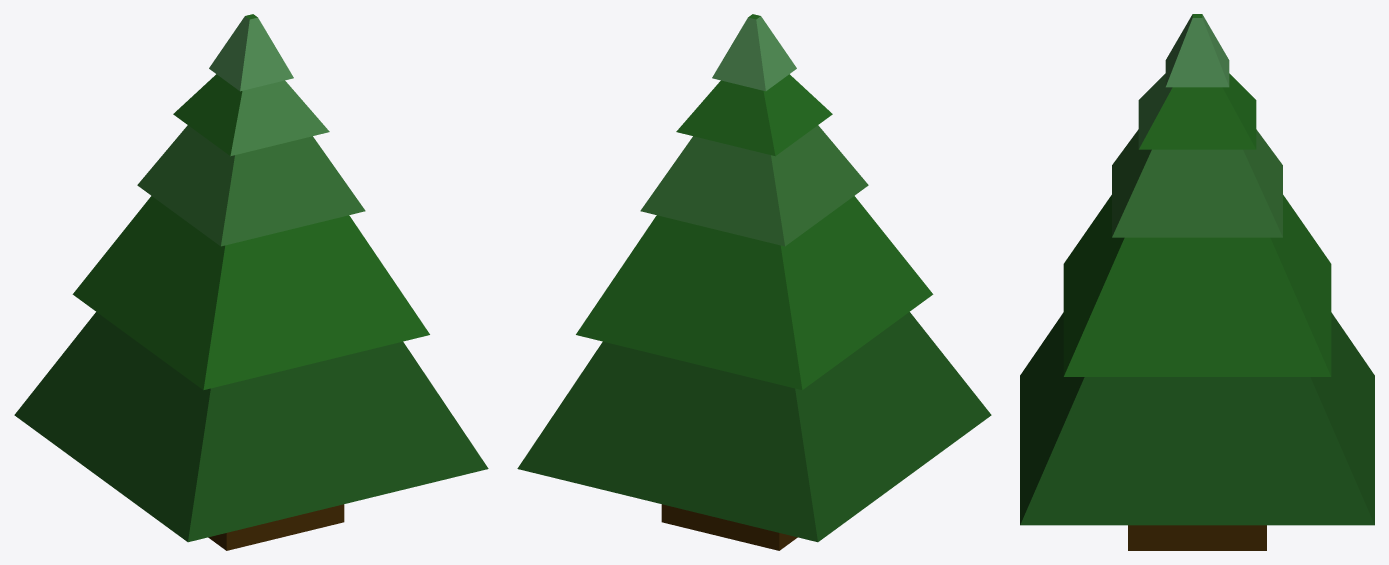
File: Trees_2.fbx
The picture shows the model from 3 angles, left to right: view 1: azimuth 30°, elevation 25°; view 2: azimuth 150°, elevation 25°; view 3: azimuth 270°, elevation 25°; orthographic projection. The views are drawn at different scales.
Visible parts, largest first — view 1: Tree 2; view 2: Tree 2; view 3: Tree 2.
Part boxes in pixels (x1,y1,x2,y2): Tree 2: [14, 14, 488, 550]; Tree 2: [517, 14, 991, 550]; Tree 2: [1020, 14, 1374, 550].
Bounding box in the file's own units: 360 × 566 × 360.
